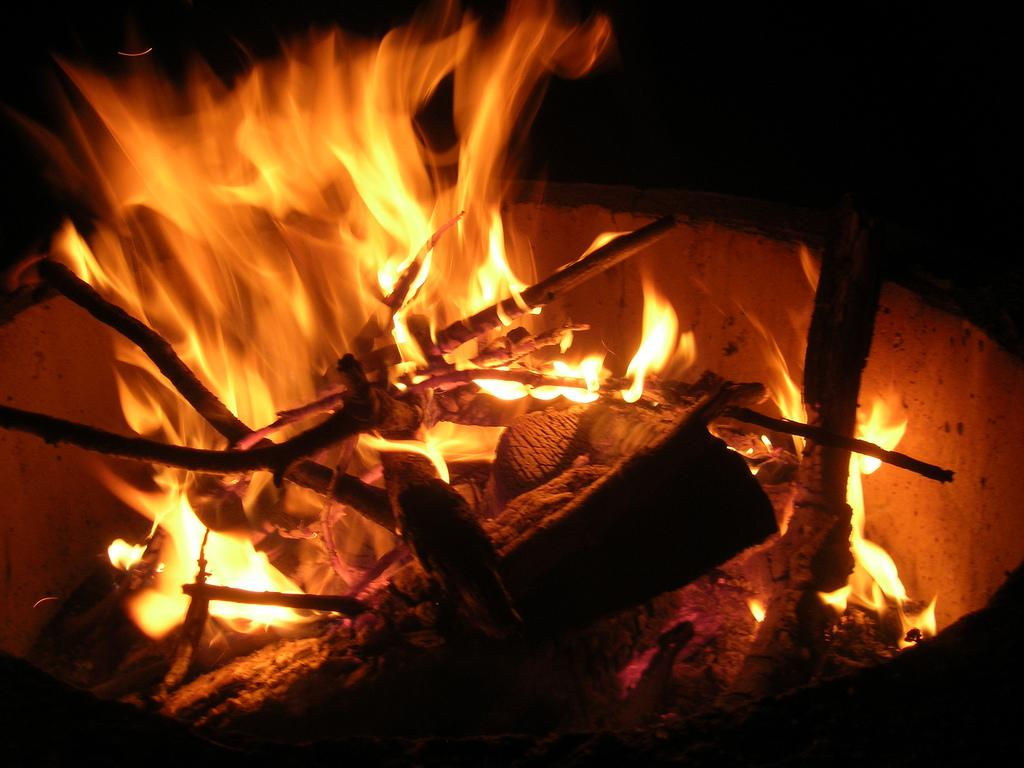fire: (104, 114, 418, 358), (148, 512, 274, 620)
